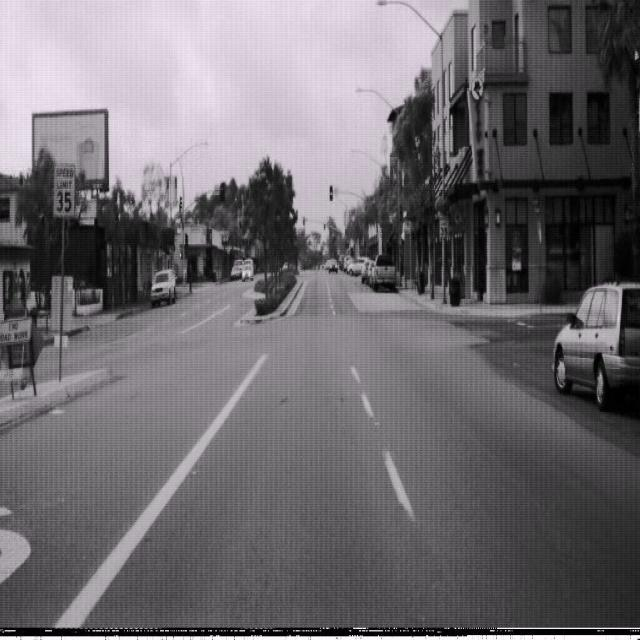speedLimit35: (52, 160, 76, 220), (438, 212, 449, 238)
